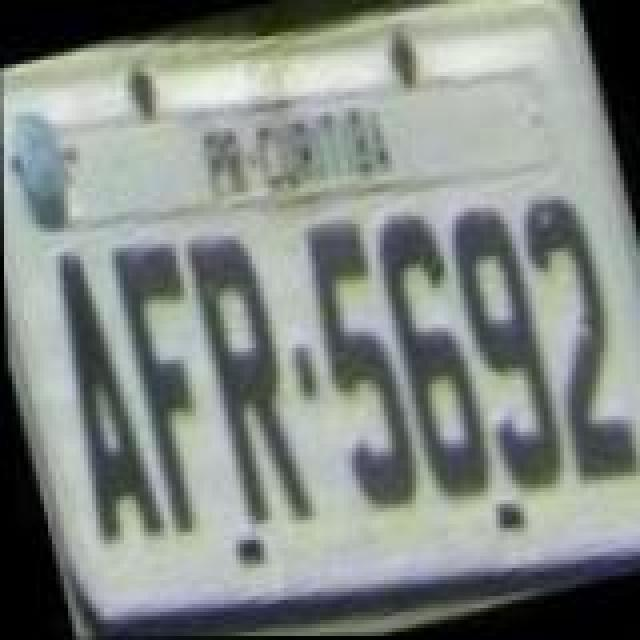2: (504, 184, 640, 492)
5: (288, 204, 428, 520)
6: (362, 198, 498, 506)
9: (432, 192, 572, 504)
A: (26, 236, 162, 544)
F: (100, 228, 240, 540)
R: (176, 216, 316, 536)
